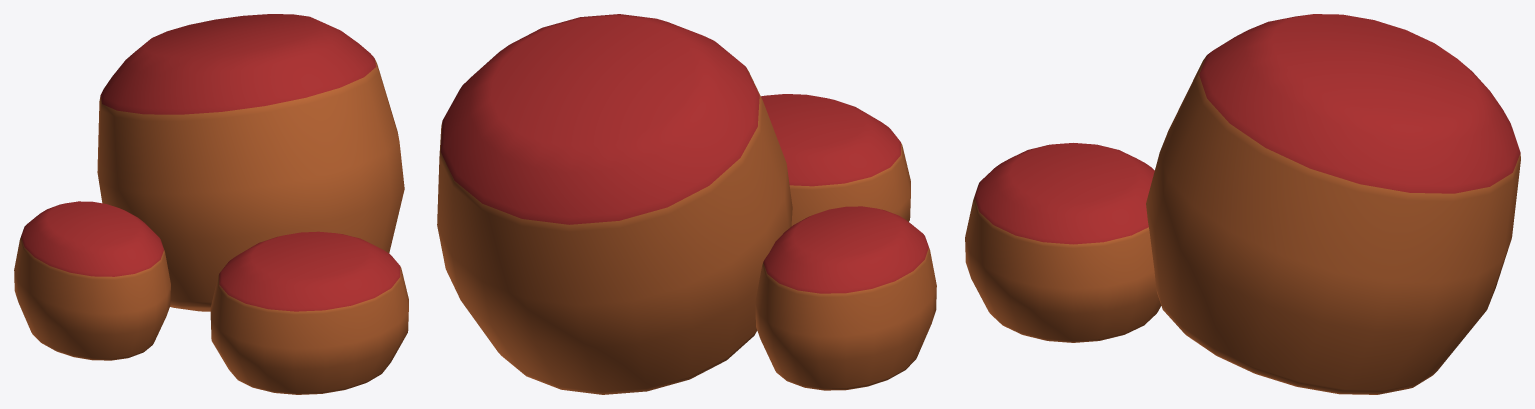
Rendered from Bush_1.fbx.
The picture shows the model from 3 angles, left to right: view 1: azimuth 30°, elevation 25°; view 2: azimuth 150°, elevation 25°; view 3: azimuth 270°, elevation 25°; orthographic projection. The views are drawn at different scales.
Parts seen in each view (by area): view 1: polySurface45; view 2: polySurface45; view 3: polySurface45.
Part boxes in pixels (x1=…): polySurface45: x1=14, y1=14, x2=408, y2=394; polySurface45: x1=437, y1=14, x2=936, y2=394; polySurface45: x1=965, y1=14, x2=1520, y2=394.
Size of the model in its own units: 236 by 163 by 255.
